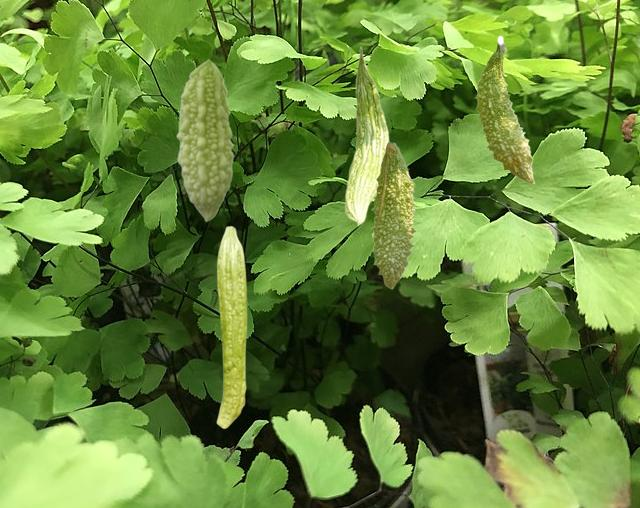ampalaya: (176, 59, 234, 222), (474, 35, 535, 184), (344, 45, 389, 227), (370, 141, 417, 289), (216, 225, 247, 429)
